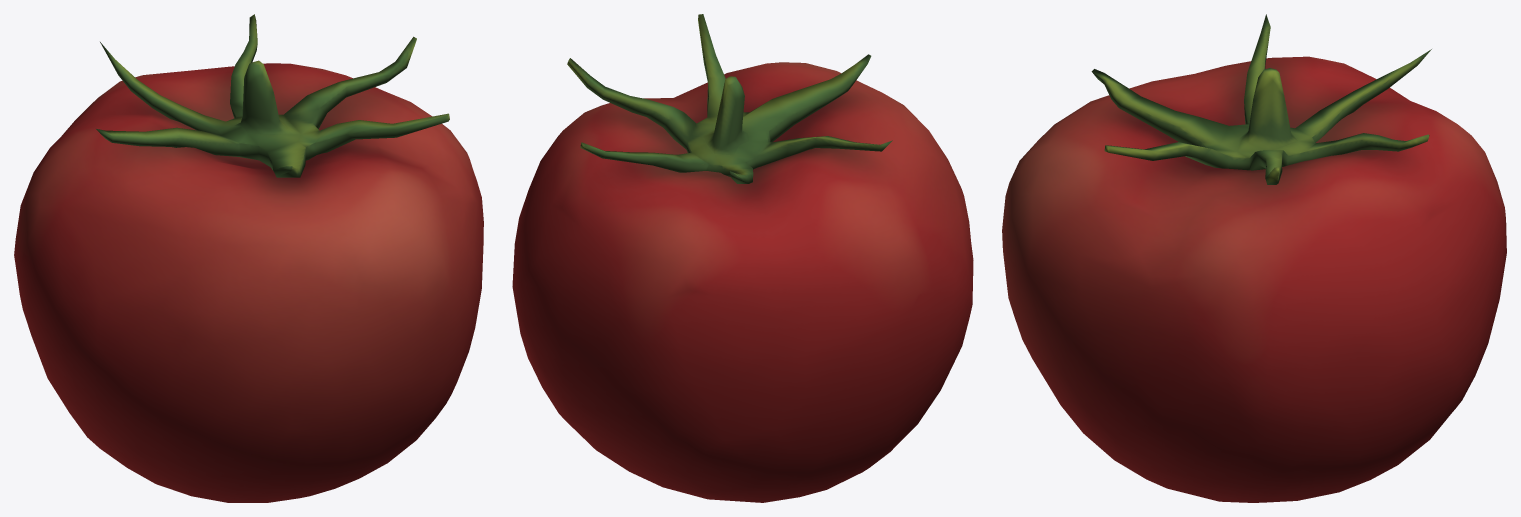
The model's file is tomatoes.fbx.
3 views of the same model, side by side, from view 1: azimuth 30°, elevation 25°; view 2: azimuth 150°, elevation 25°; view 3: azimuth 270°, elevation 25° (orthographic). The views are drawn at different scales.
Visible parts, largest first — view 1: tomatoes; view 2: tomatoes; view 3: tomatoes.
Part boxes in pixels (box(x1,y1,x2,y2)): tomatoes: box(14, 14, 483, 502); tomatoes: box(512, 14, 973, 502); tomatoes: box(1002, 14, 1506, 502).
Size of the model in its own units: 0.5691 by 0.529 by 0.5864.
